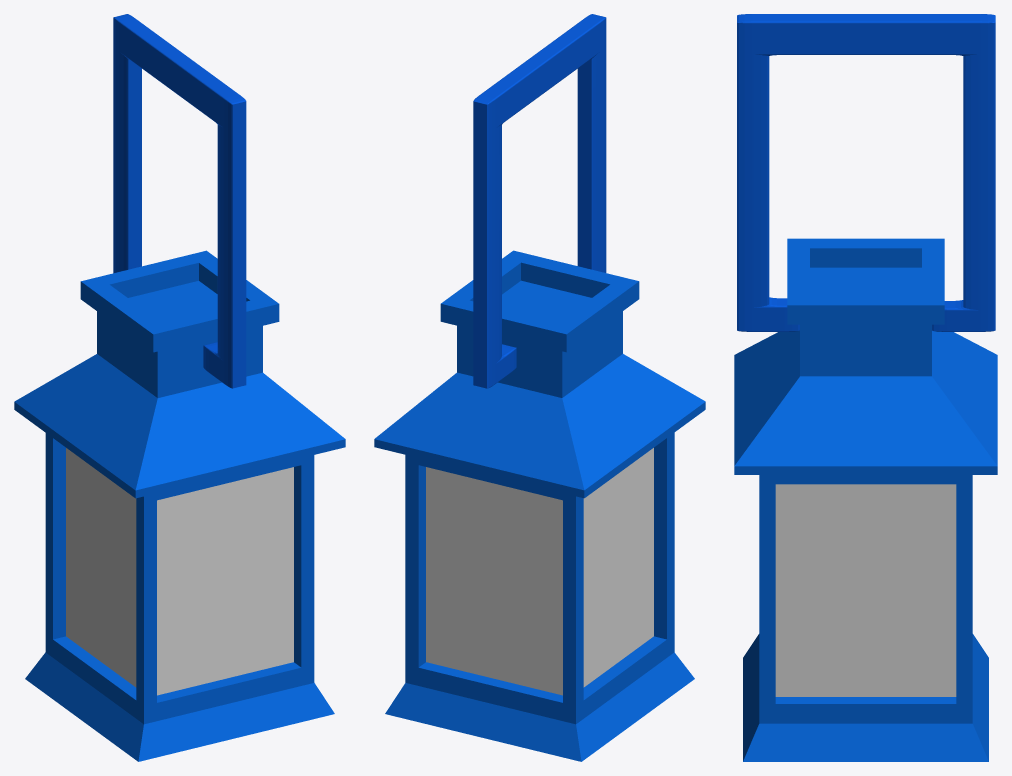
The model's file is Farolillo.fbx.
3 renders of one model, left to right at view 1: azimuth 30°, elevation 25°; view 2: azimuth 150°, elevation 25°; view 3: azimuth 270°, elevation 25°, orthographic. The views are drawn at different scales.
Visible parts, largest first — view 1: Cube, Transparente, Cube.001; view 2: Cube, Transparente, Cube.001; view 3: Cube, Transparente, Cube.001.
Part boxes in pixels (<box>): Cube: <box>14,250,345,761</box>; Transparente: <box>66,448,293,695</box>; Cube.001: <box>113,14,246,388</box>; Cube: <box>374,250,705,761</box>; Transparente: <box>426,448,653,695</box>; Cube.001: <box>473,14,606,388</box>; Cube: <box>734,238,997,761</box>; Transparente: <box>775,484,956,696</box>; Cube.001: <box>737,14,995,331</box>.
Bounding box in the file's own units: 246 × 715 × 246.
